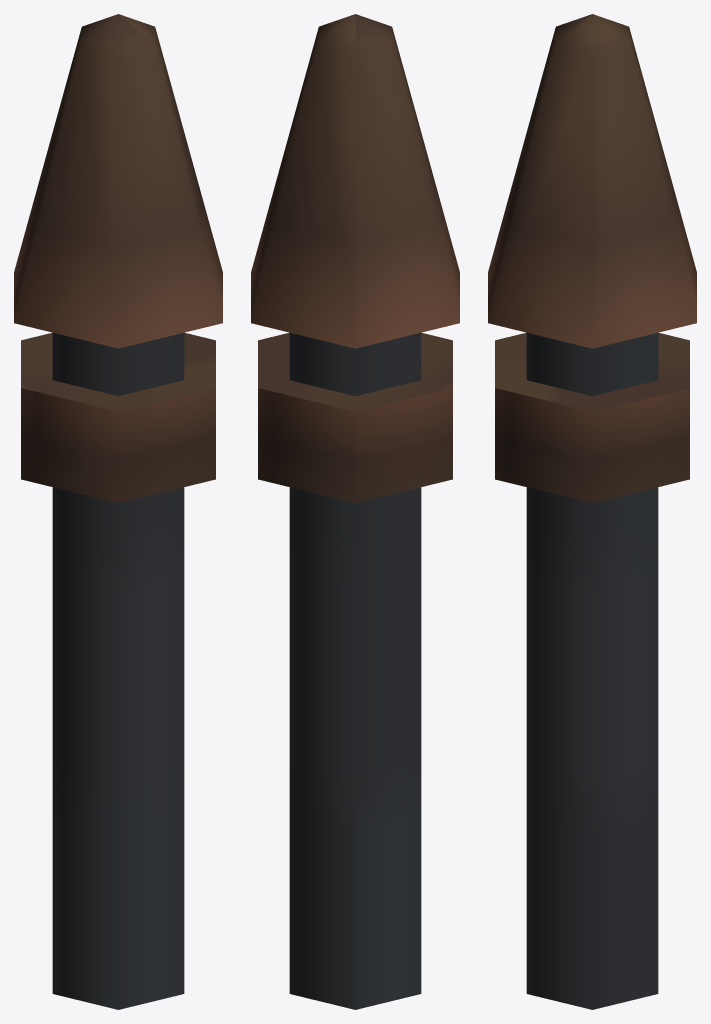
File: chimney_v5.fbx
The picture shows the model from 3 angles, left to right: view 1: azimuth 30°, elevation 25°; view 2: azimuth 150°, elevation 25°; view 3: azimuth 270°, elevation 25°; orthographic projection.
Visible parts, largest first — view 1: chimney_v5; view 2: chimney_v5; view 3: chimney_v5.
Boxes of the visible parts, bbox=[...] form: chimney_v5: bbox=[14, 14, 222, 1009]; chimney_v5: bbox=[251, 14, 459, 1009]; chimney_v5: bbox=[488, 14, 696, 1009].
Bounding box in the file's own units: 42.7 × 188 × 36.98.
